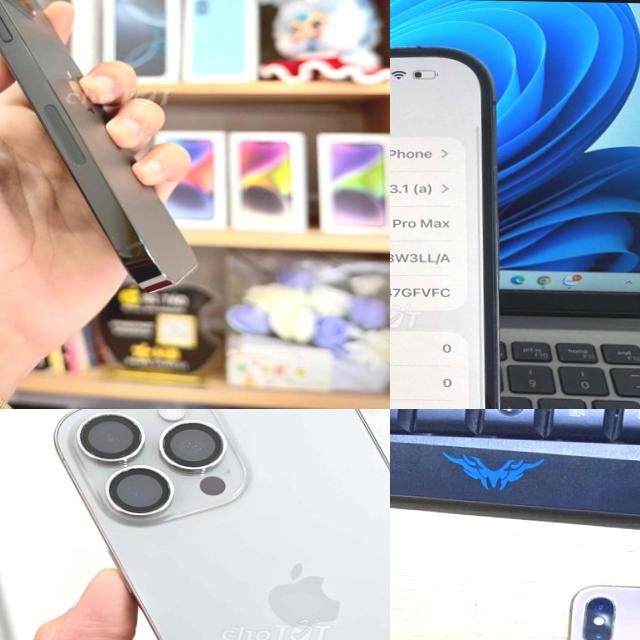gen_14: (0, 0, 220, 303), (390, 35, 534, 409)
gen_16: (54, 409, 390, 640)
